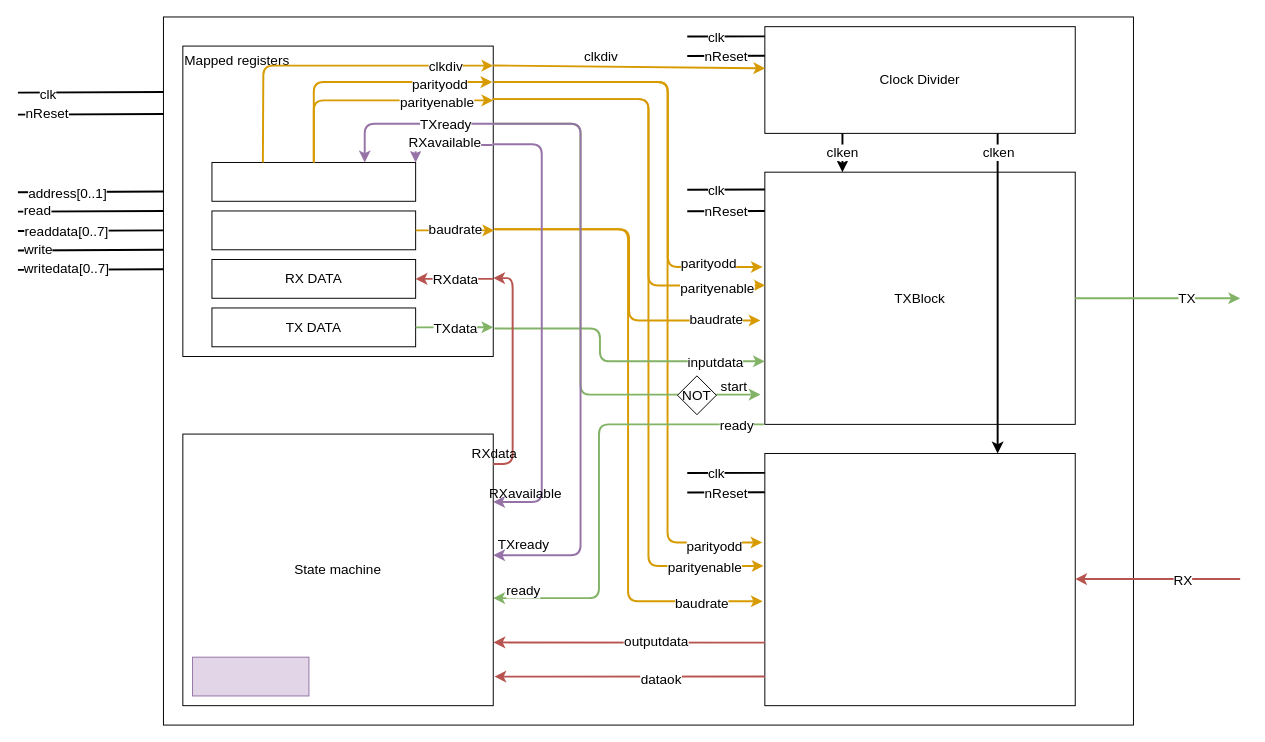
The diagram is 1265 pixels wide and 742 high, and some of its shapes have lost their labels. The centre of each missing label's shape, as x and y in pixels:
CTRL A: pixel 313 181
CTRL B: pixel 313 230
newdata (internal register): pixel 250 676
RXBlock: pixel 919 579
